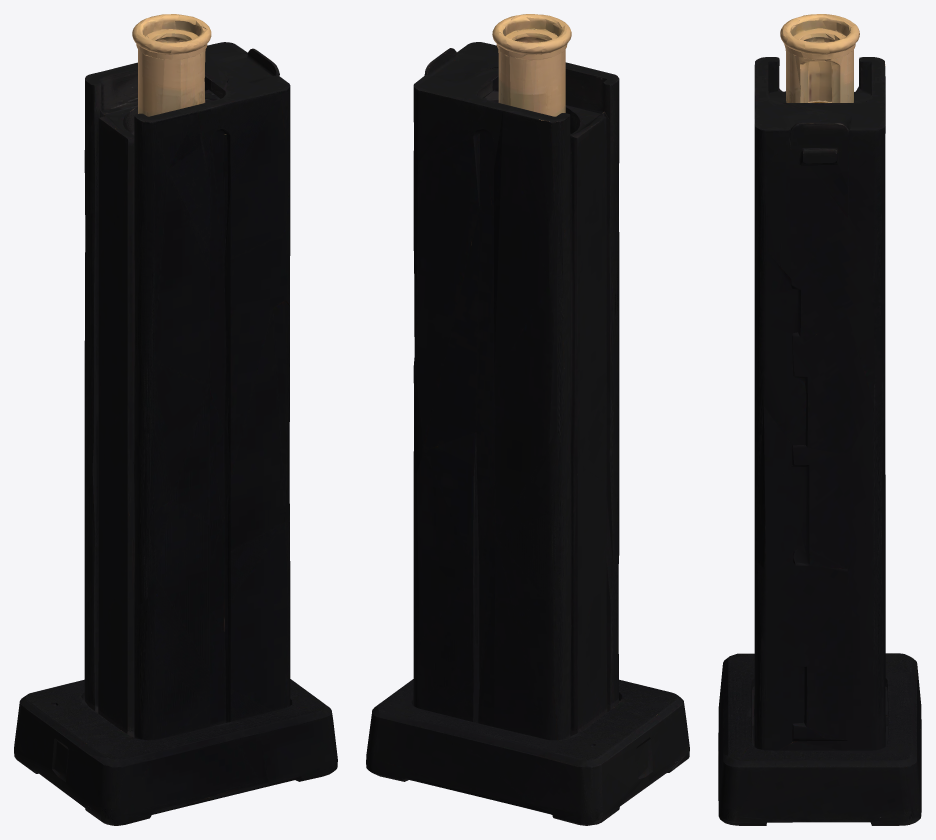
The model's file is mod_extended_mag.glb.
The picture shows the model from 3 angles, left to right: view 1: azimuth 30°, elevation 25°; view 2: azimuth 150°, elevation 25°; view 3: azimuth 270°, elevation 25°; orthographic projection.
Size of the model in its own units: 0.6351 by 1.9 by 0.4724.
Materials: 1 (1 with a texture image).
